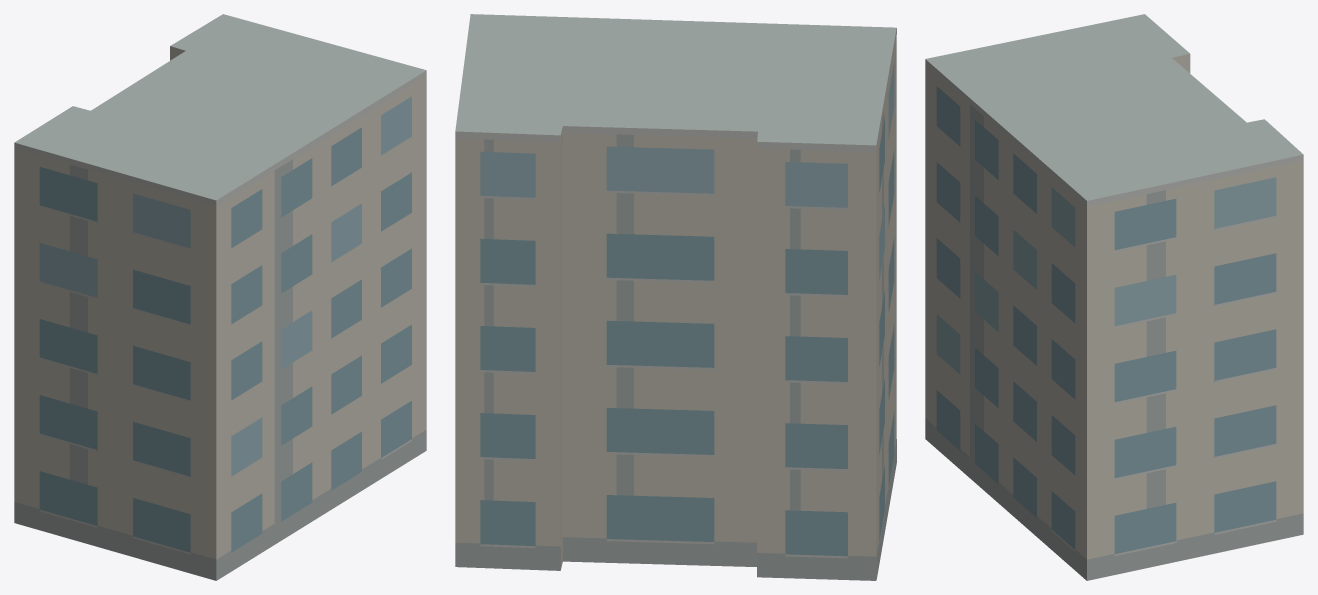
The model's file is survey-upis-32698419.glb.
3 views of the same model, side by side, from view 1: azimuth 30°, elevation 25°; view 2: azimuth 150°, elevation 25°; view 3: azimuth 270°, elevation 25° (orthographic). The views are drawn at different scales.
Parts seen in each view (by area): view 1: survey-upis-32698419.tmp; view 2: survey-upis-32698419.tmp; view 3: survey-upis-32698419.tmp.
Part boxes in pixels (x1=…): survey-upis-32698419.tmp: x1=14, y1=14, x2=426, y2=580; survey-upis-32698419.tmp: x1=455, y1=14, x2=896, y2=580; survey-upis-32698419.tmp: x1=925, y1=14, x2=1303, y2=580.
Size of the model in its own units: 16.36 by 15.5 by 14.
